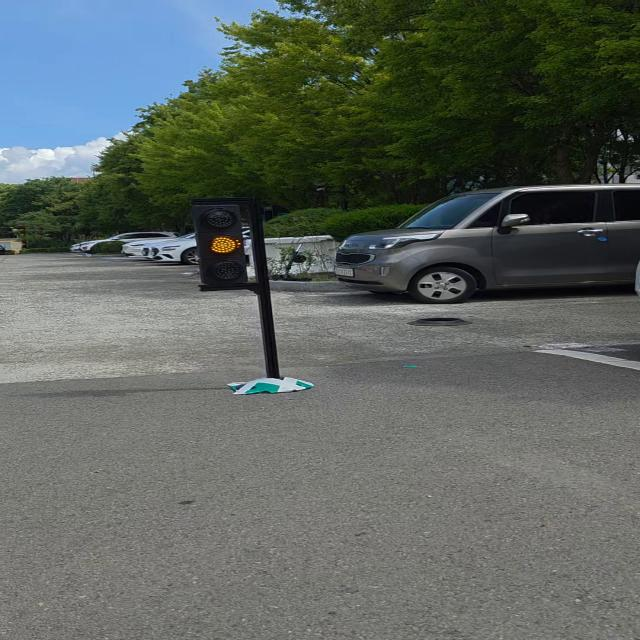yellow: (190, 198, 256, 294)
